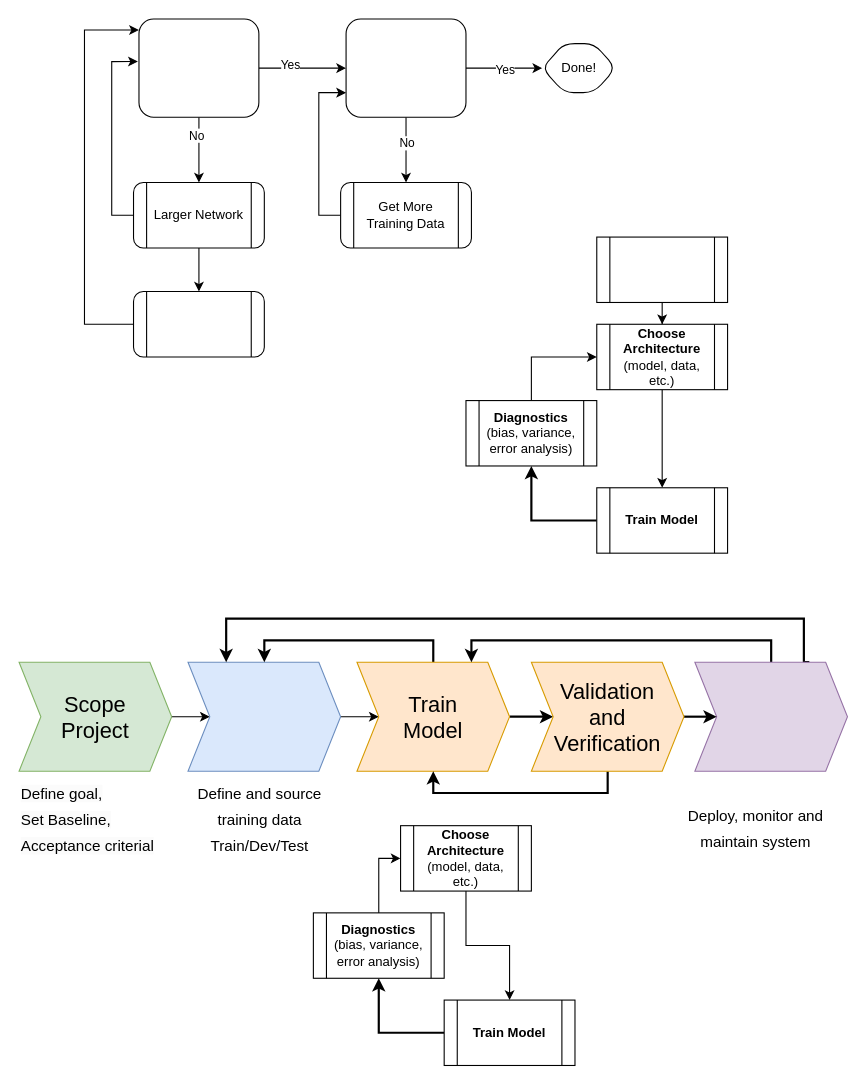
Image size: 867x1085. Some labels were removed from this diagram. The box of each missing label's shape, as (x1, y1, x2, y2) in pixels:
Collect Data: (187, 661, 341, 771)
Define Problem Set Baseline: (596, 236, 728, 302)
Deploy in Production: (694, 661, 847, 771)
Does it do well on the Dev/CV set?: (345, 18, 466, 117)
Does it do well on the training set?: (138, 18, 259, 117)
Increase Regularization: (132, 290, 264, 357)
